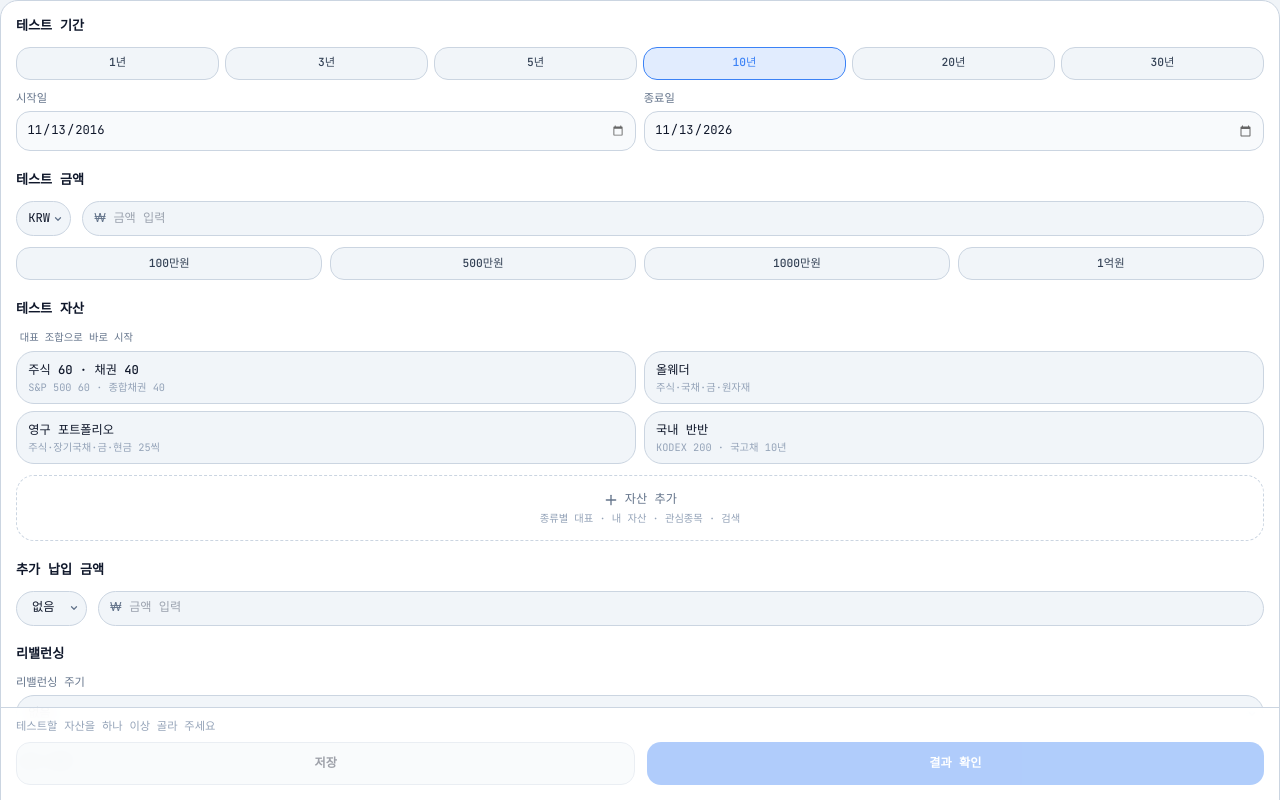
Test: 시세를 못 받은 종목은 **다시 받는다** › 못 받은 종목이 몇 개인지 적는다
Click the button labelled "자산 추가 종류별 대표 · 내 자산 · 관심종목 · 검색": [640, 508] box [16, 475, 1264, 541]
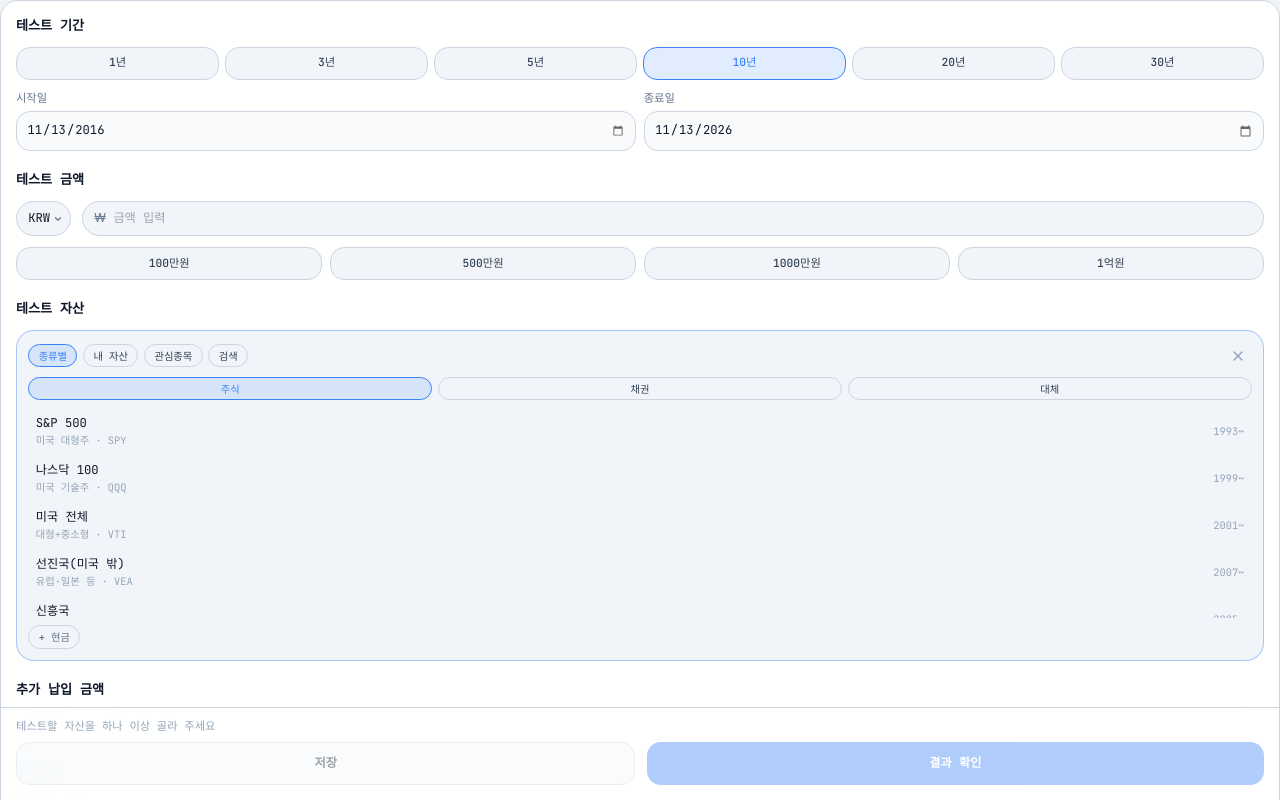
Click the button with aria-label "내 자산에서": [111, 356] box [83, 344, 138, 367]
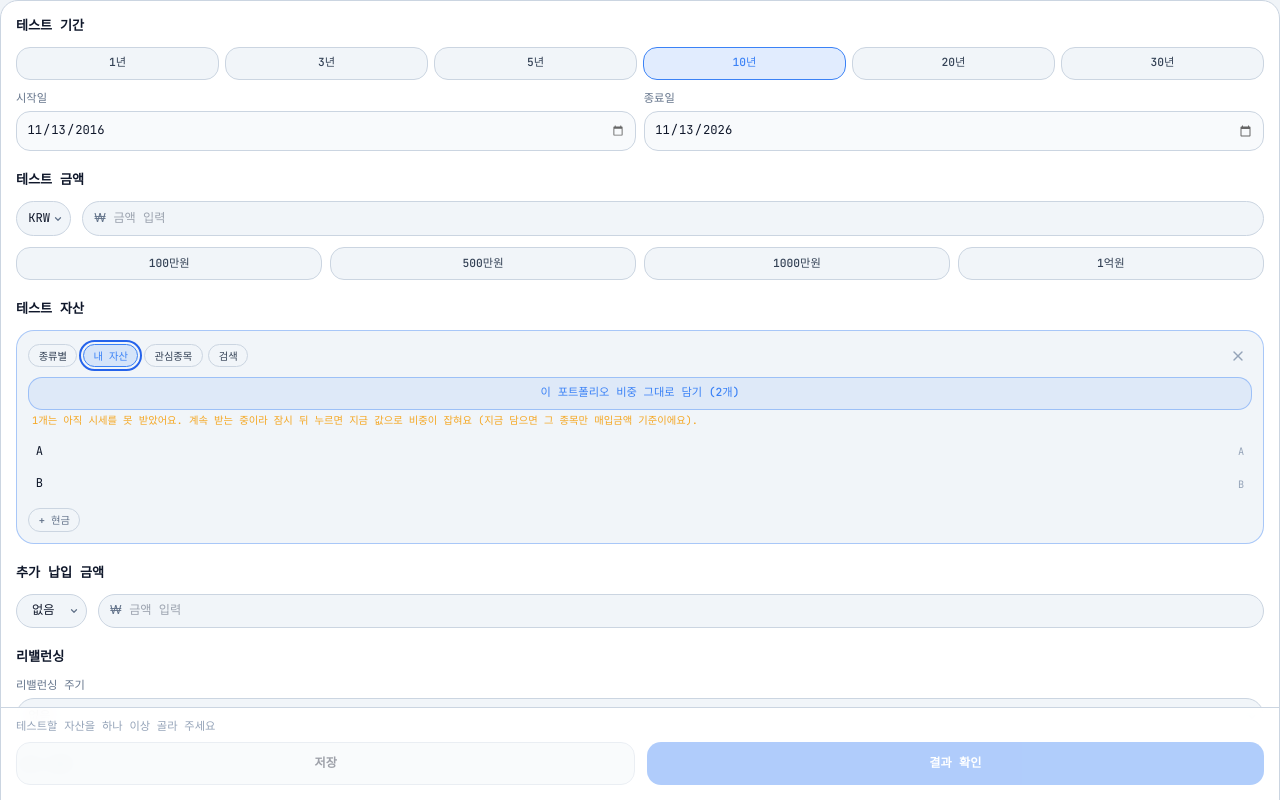
Expected: the text "1개는 아직 시세를 못 받았어요" is shown, [32, 413, 698, 427]
